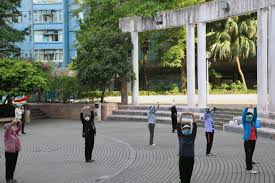Good: (3, 104, 101, 183), (79, 102, 158, 162), (203, 103, 263, 175), (179, 103, 217, 183), (169, 102, 198, 180), (2, 104, 25, 183), (146, 103, 178, 146)
